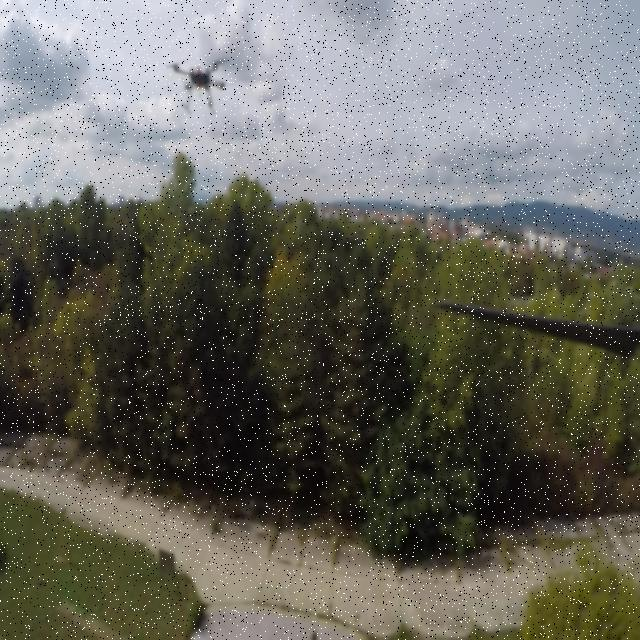UAV: (164, 51, 238, 119)
